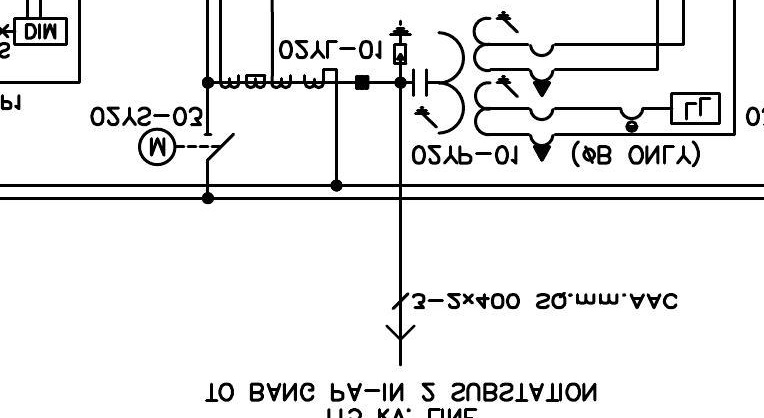115_1way_ds_w_motor: (137, 127, 236, 168)
115_cvt_1p: (411, 10, 557, 163)
115_la: (388, 19, 412, 65)
DIM: (13, 17, 69, 46)
LL: (670, 92, 721, 125)
